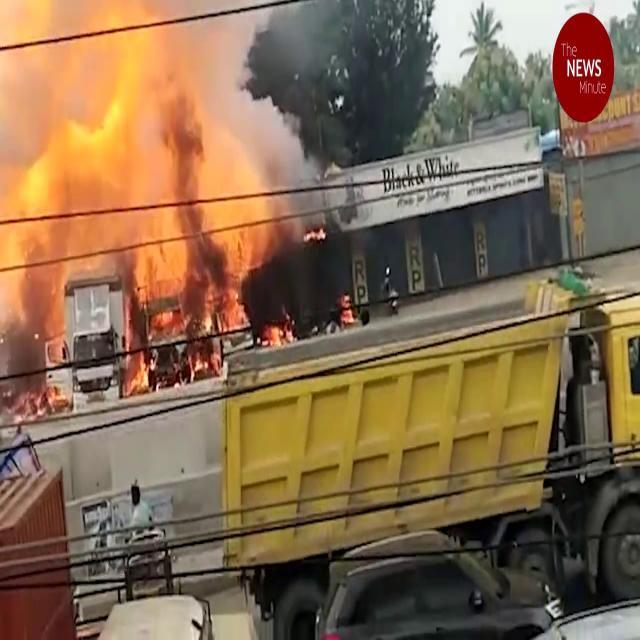Fire: (2, 0, 325, 318), (120, 197, 262, 399)
Smoke: (188, 0, 303, 205)
